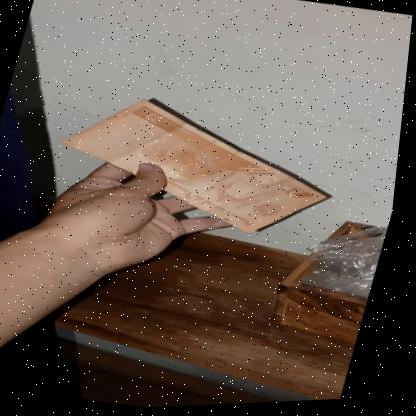twenty-back-vef: (41, 78, 356, 256)
